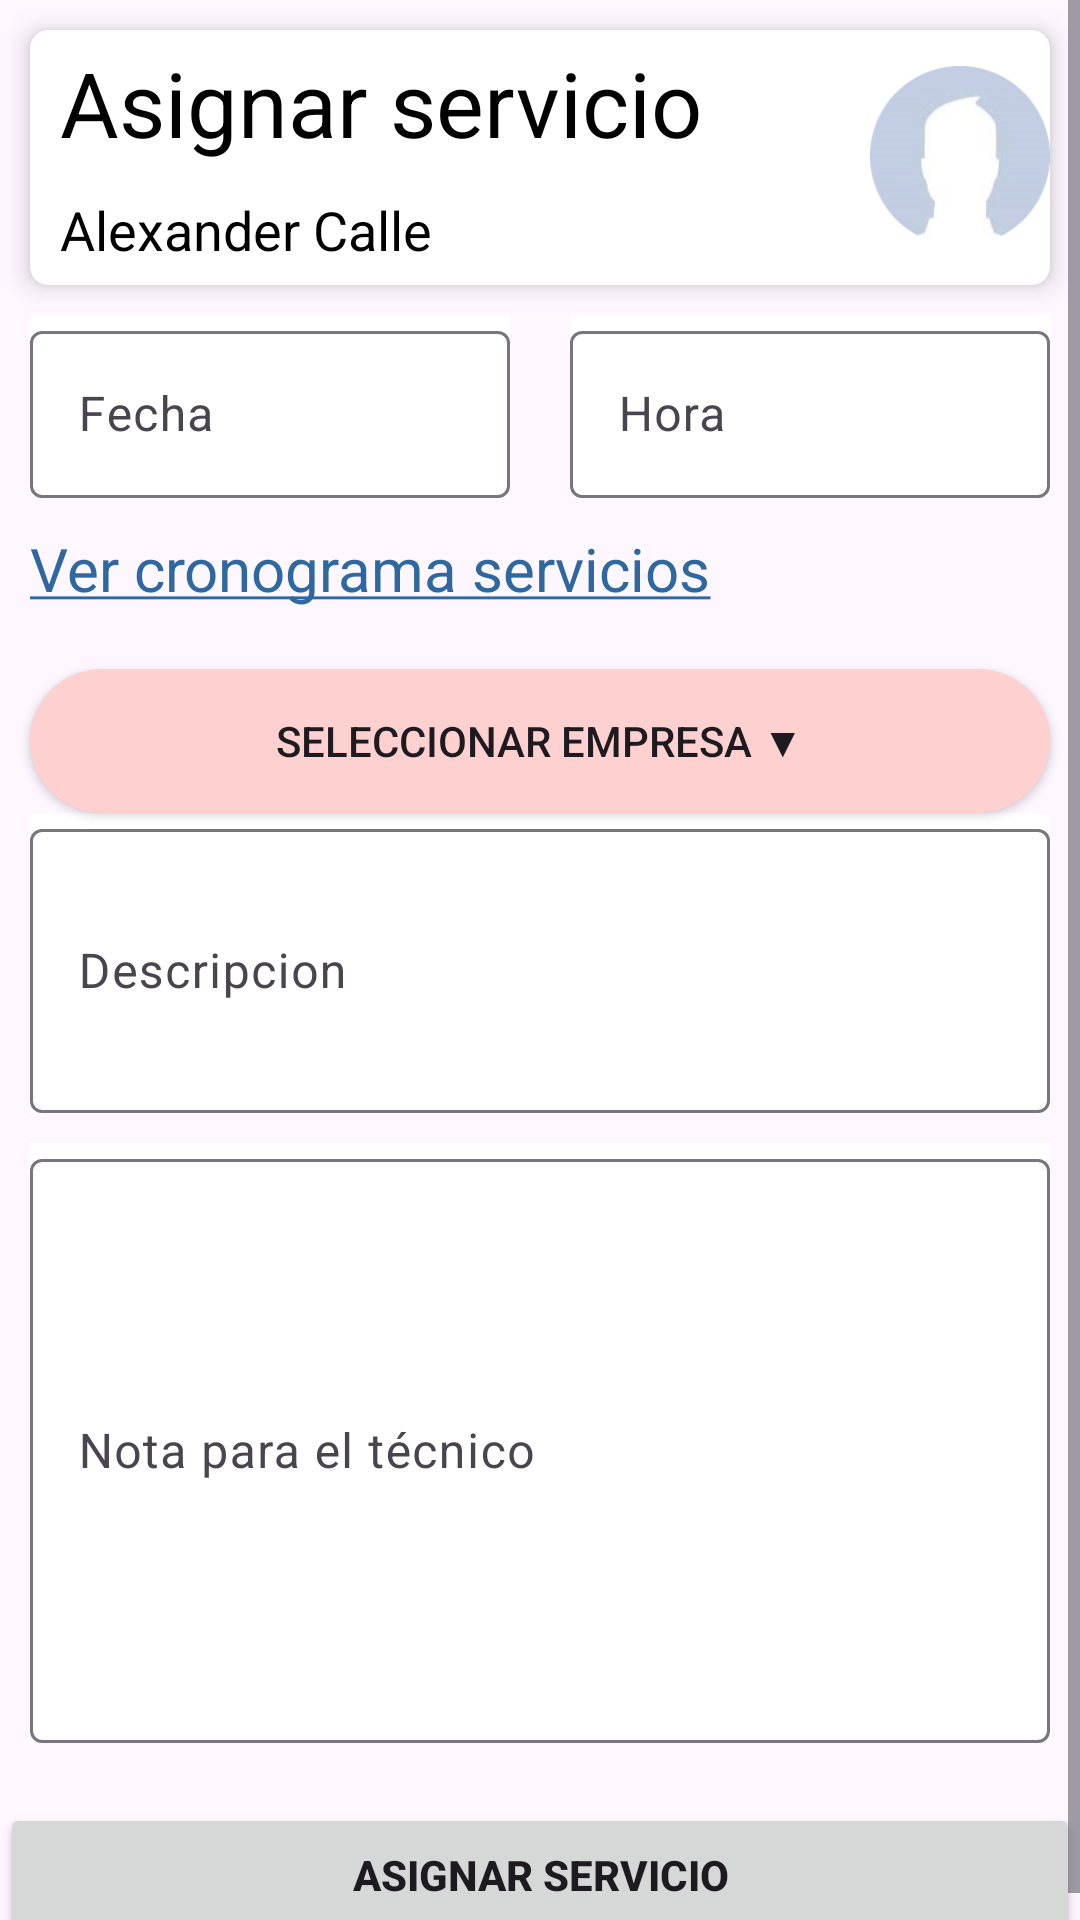

Where to tap for icons on this 1080 × 1920 app screen, as point (x, y):
nouser: point (960, 151)
